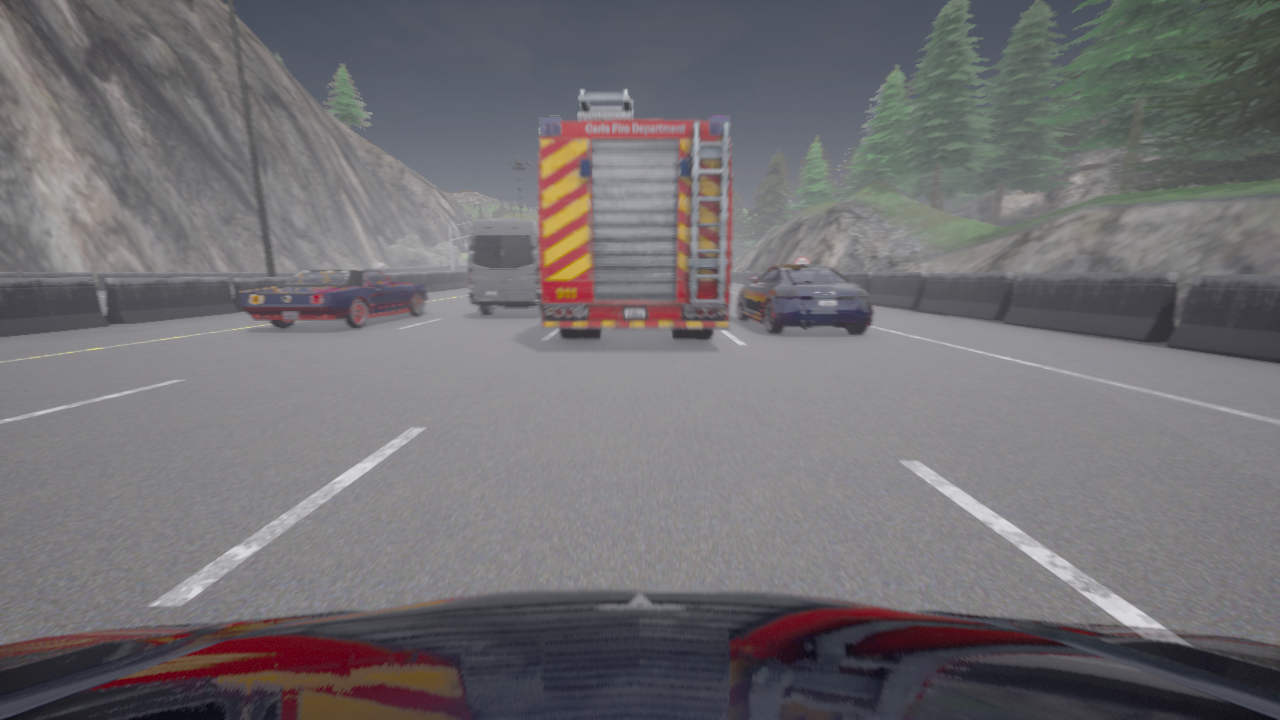cyclist: (0, 588, 1279, 719), (537, 90, 732, 339), (241, 269, 427, 328), (737, 265, 872, 333), (468, 219, 541, 315)
